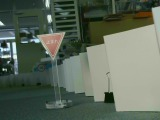stop: (37, 32, 66, 60)
